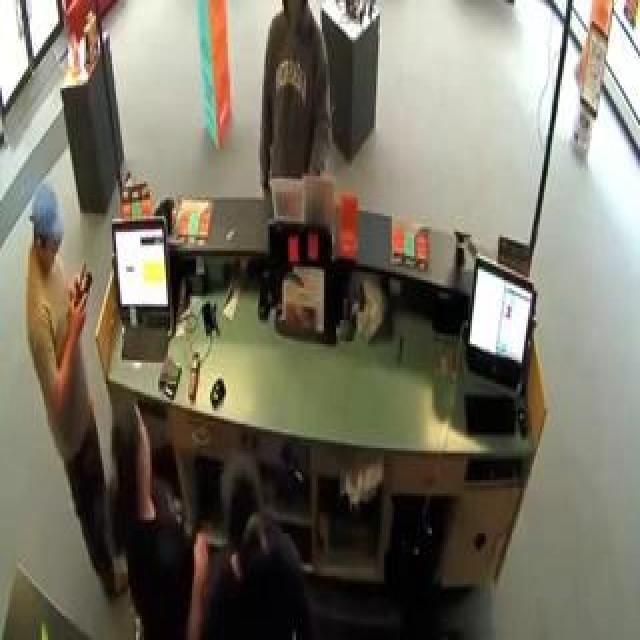high_con: (274, 0, 322, 40)
low_con: (24, 183, 66, 281)
no_con: (108, 386, 158, 518), (219, 454, 266, 582)
